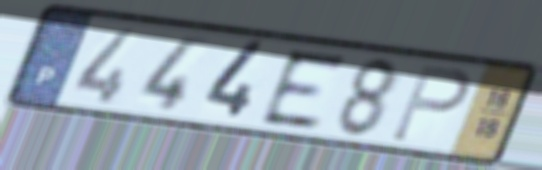4: (201, 36, 267, 126), (136, 32, 207, 115), (70, 26, 139, 106)
8: (335, 55, 402, 140)
E: (257, 48, 351, 131)
P: (387, 61, 474, 145)
